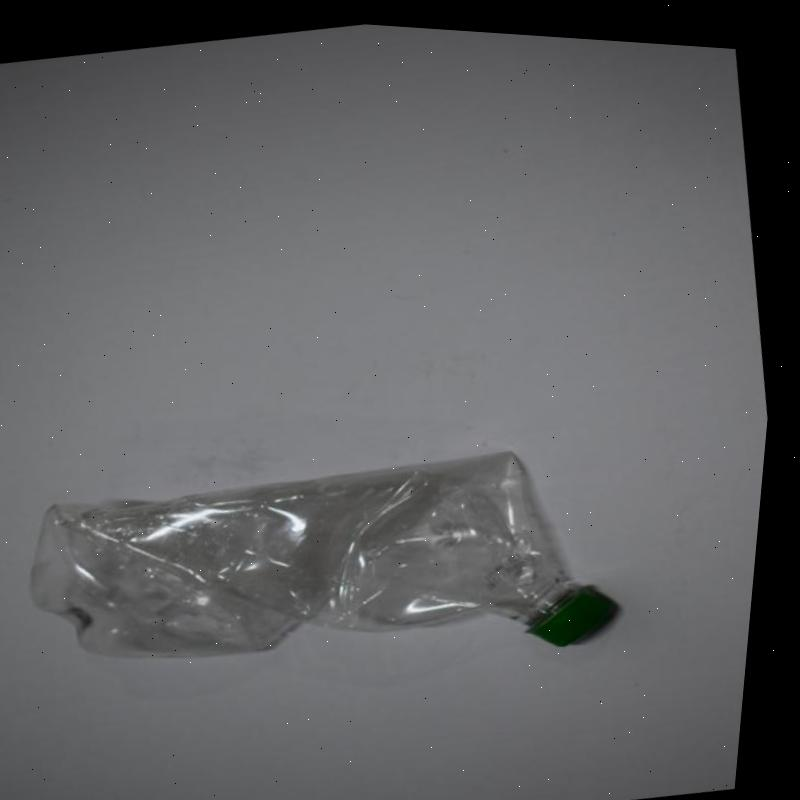botella: (17, 404, 648, 733)
